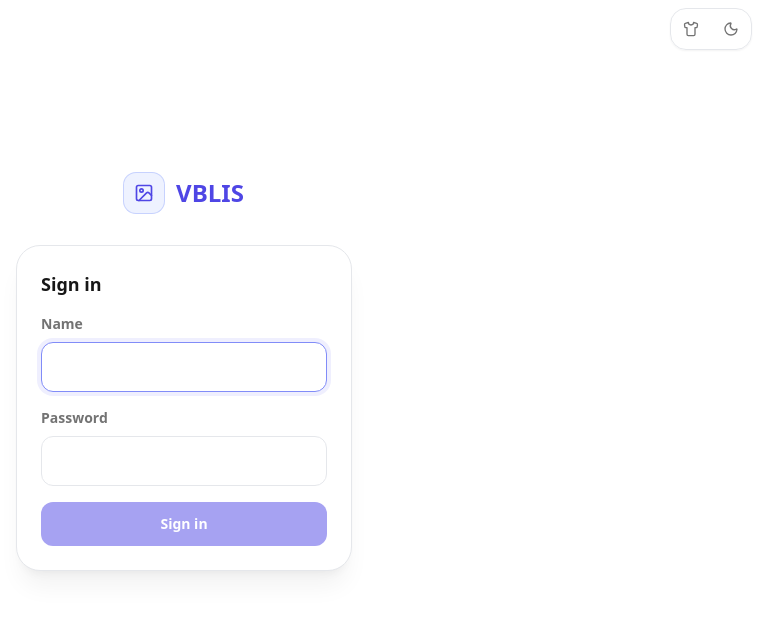
SessionGate › in a browser › signing in › says when the account is turned off
Type "alice" into the field labelled "Name" at (184, 367), box 41,342 -> 327,392
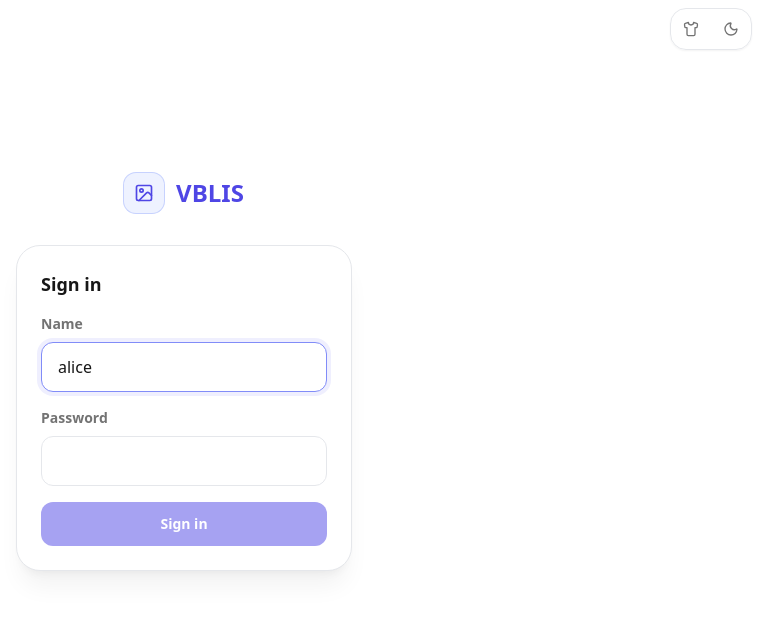
Type "secret" into the password field labelled "Password" at (184, 461), box 41,436 -> 327,486
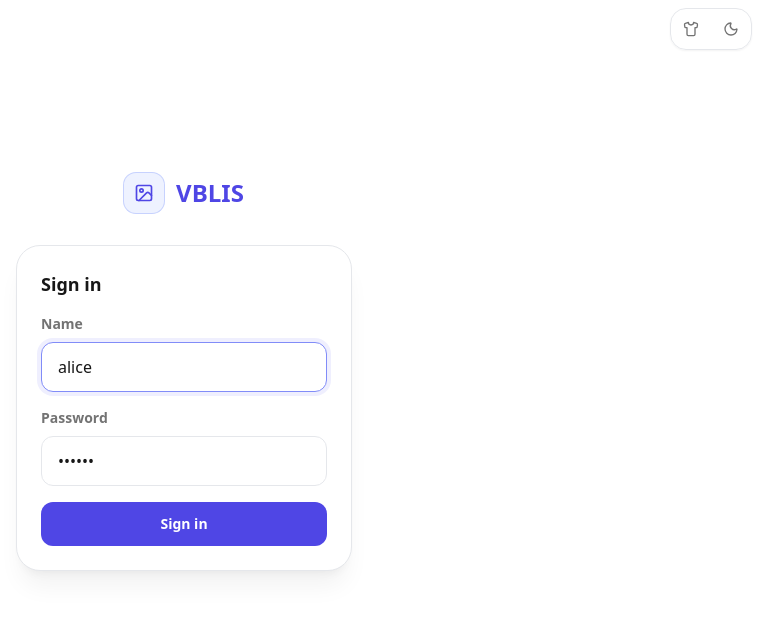
Click the button "Sign in" at (184, 524), box 41,502 -> 327,546
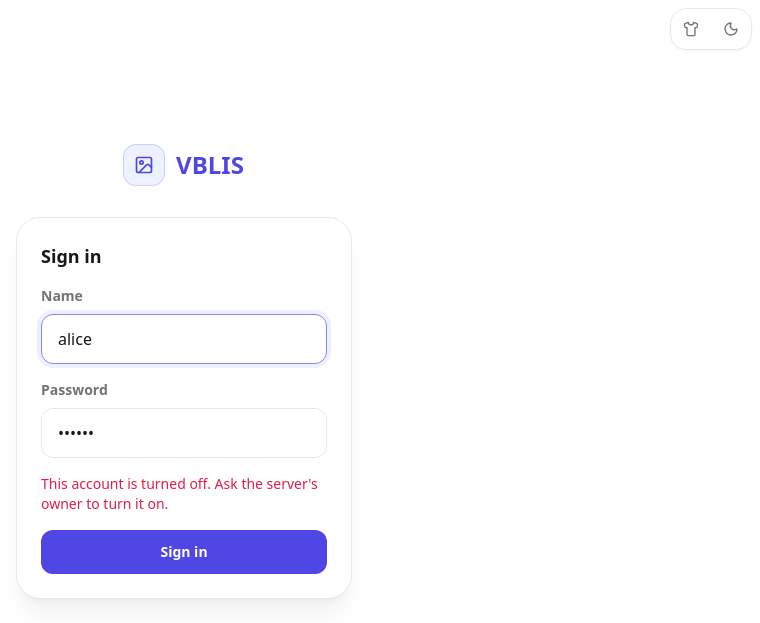
Check: the message reads "This account is turned off. Ask the server's owner to turn it on.", box 41,474 -> 318,513
